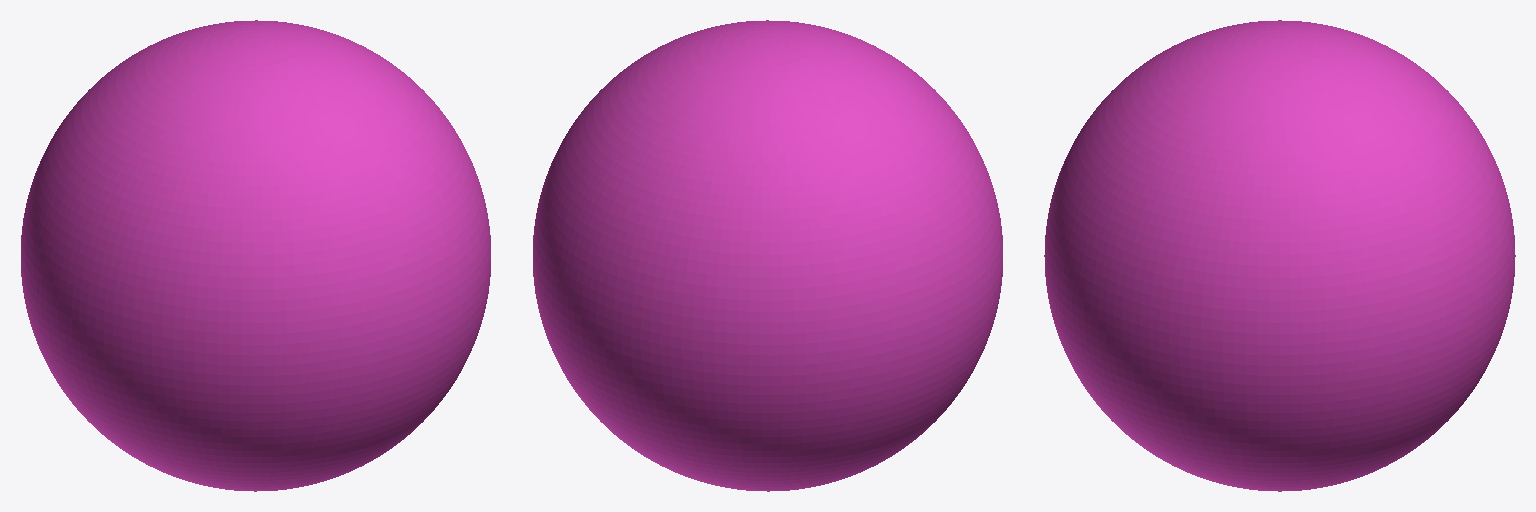
Rendered from Sol.obj.
3 views of the same model, side by side, from view 1: azimuth 30°, elevation 25°; view 2: azimuth 150°, elevation 25°; view 3: azimuth 270°, elevation 25° (orthographic).
Visible parts, largest first — view 1: Sphere001; view 2: Sphere001; view 3: Sphere001.
Boxes of the visible parts, x1,y1,x2,y2 form: Sphere001: [21, 20, 490, 491]; Sphere001: [533, 20, 1002, 491]; Sphere001: [1044, 20, 1515, 491].
Size of the model in its own units: 21800 by 21800 by 21800.